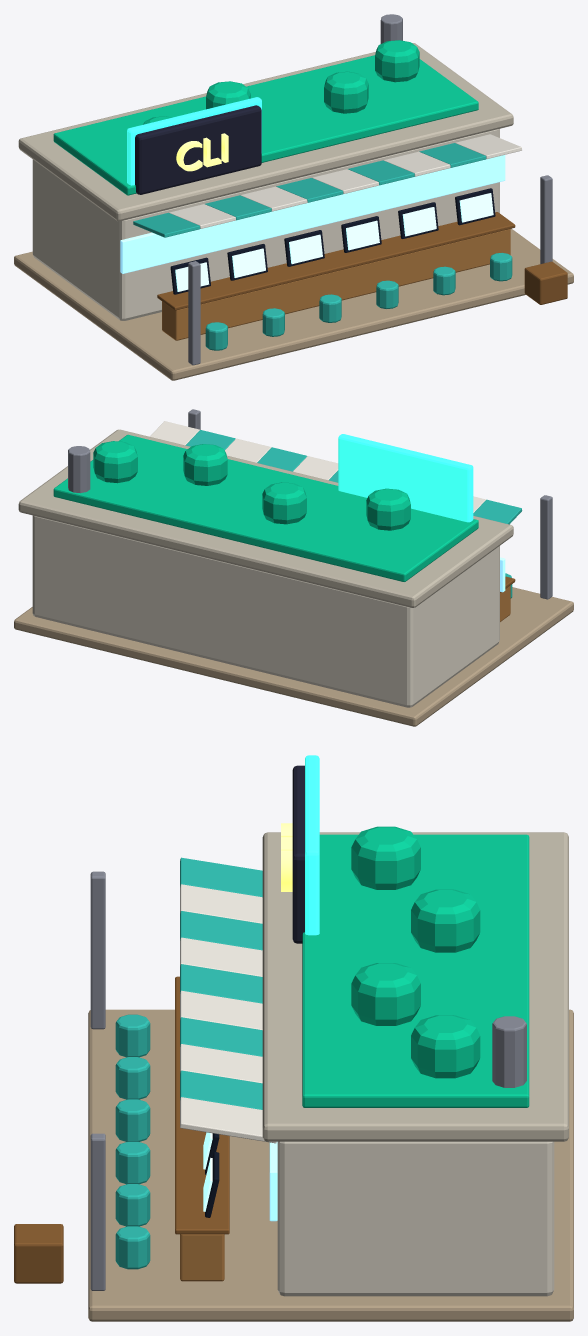
The model's file is terminal-cantina-BHiPUt-J.glb.
The picture shows the model from 3 angles, top to bottom: view 1: azimuth 30°, elevation 25°; view 2: azimuth 150°, elevation 25°; view 3: azimuth 270°, elevation 25°; orthographic projection. The views are drawn at different scales.
Parts seen in each view (by area): view 1: house, plinth.001, roof_garden, roof_slab.001, house_glass, counter, sign_board.001, counter_top, roof_bush_2, roof_bush_3, sign_rim.001, crate (+27 smaller); view 2: house, roof_garden, roof_slab.001, plinth.001, sign_rim.001, roof_bush_1, roof_bush_2, roof_bush_0, roof_bush_3, post_-6, pipe, awning_0.001 (+5 smaller); view 3: roof_garden, house, plinth.001, roof_slab.001, counter_top, roof_bush_3, roof_bush_1, roof_bush_0, roof_bush_2, crate, sign_rim.001, awning_9.001 (+22 smaller).
Part boxes in pixels (x1=…): house: x1=32, y1=129, x2=499, y2=320; plinth.001: x1=14, y1=228, x2=573, y2=380; roof_garden: x1=53, y1=55, x2=478, y2=195; roof_slab.001: x1=18, y1=43, x2=513, y2=221; house_glass: x1=120, y1=155, x2=505, y2=273; counter: x1=162, y1=229, x2=510, y2=340; sign_board.001: x1=135, y1=105, x2=261, y2=194; counter_top: x1=157, y1=212, x2=515, y2=310; roof_bush_2: x1=324, y1=71, x2=368, y2=113; roof_bush_3: x1=375, y1=40, x2=419, y2=82; sign_rim.001: x1=127, y1=97, x2=261, y2=185; crate: x1=524, y1=261, x2=567, y2=304; house: x1=32, y1=515, x2=499, y2=707; roof_garden: x1=53, y1=434, x2=478, y2=581; roof_slab.001: x1=18, y1=429, x2=513, y2=607; plinth.001: x1=14, y1=587, x2=573, y2=726; sign_rim.001: x1=338, y1=434, x2=473, y2=522; roof_bush_1: x1=262, y1=482, x2=306, y2=524; roof_bush_2: x1=183, y1=444, x2=227, y2=485; roof_bush_0: x1=366, y1=488, x2=410, y2=530; roof_bush_3: x1=93, y1=441, x2=137, y2=483; post_-6: x1=540, y1=495, x2=552, y2=599; pipe: x1=68, y1=446, x2=90, y2=493; awning_0.001: x1=473, y1=499, x2=522, y2=524; roof_garden: x1=302, y1=834, x2=529, y2=1107; house: x1=277, y1=1141, x2=554, y2=1296; plinth.001: x1=88, y1=1009, x2=573, y2=1321; roof_slab.001: x1=262, y1=832, x2=568, y2=1141; counter_top: x1=175, y1=976, x2=229, y2=1234; roof_bush_3: x1=411, y1=1015, x2=480, y2=1078; roof_bush_1: x1=411, y1=889, x2=480, y2=952; roof_bush_0: x1=351, y1=826, x2=420, y2=889; roof_bush_2: x1=351, y1=963, x2=420, y2=1025; crate: x1=14, y1=1224, x2=63, y2=1283; sign_rim.001: x1=305, y1=755, x2=319, y2=935; awning_9.001: x1=180, y1=1097, x2=276, y2=1143.
Bounding box in the file's own units: 14.3 × 6.5 × 11.3.
